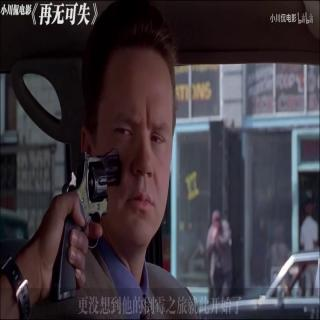gun: (49, 142, 122, 308)
